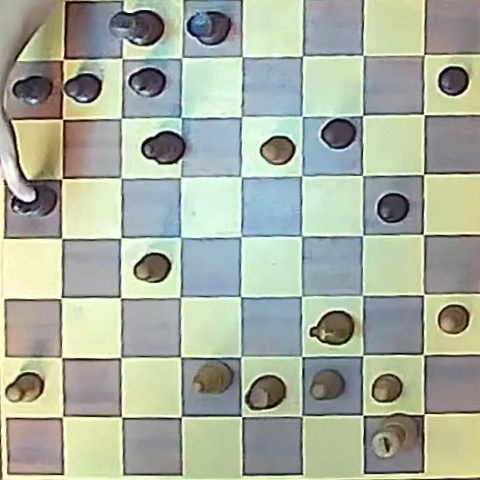black-bishop: (10, 184, 58, 217), (142, 131, 185, 165)
black-king: (110, 9, 163, 47)
black-pawn: (13, 75, 53, 106), (128, 67, 166, 97), (64, 73, 102, 103), (321, 118, 356, 150), (377, 193, 410, 223), (438, 66, 469, 96)
black-rook: (185, 10, 230, 45)
white-bishop: (192, 361, 232, 394)
white-king: (370, 415, 418, 460)
white-knight: (310, 311, 353, 346)
white-pawn: (5, 372, 44, 403), (134, 253, 171, 283), (310, 369, 344, 400), (260, 136, 295, 165), (437, 305, 469, 334), (372, 374, 403, 403)
white-rook: (246, 375, 286, 410)
